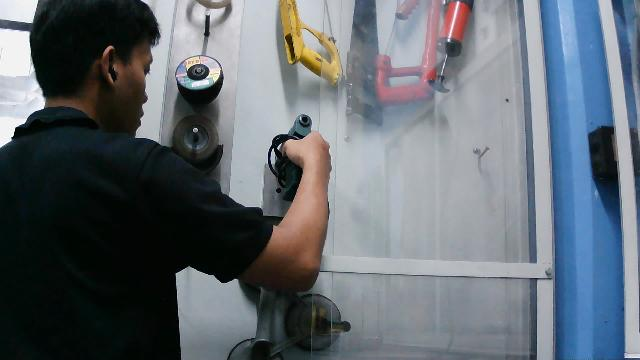gun_lem: (256, 103, 339, 207)
